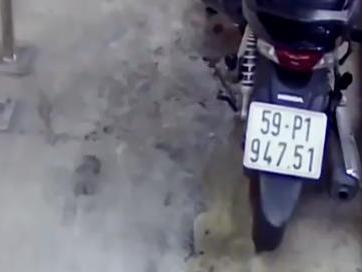num_plate: (244, 100, 328, 184)
